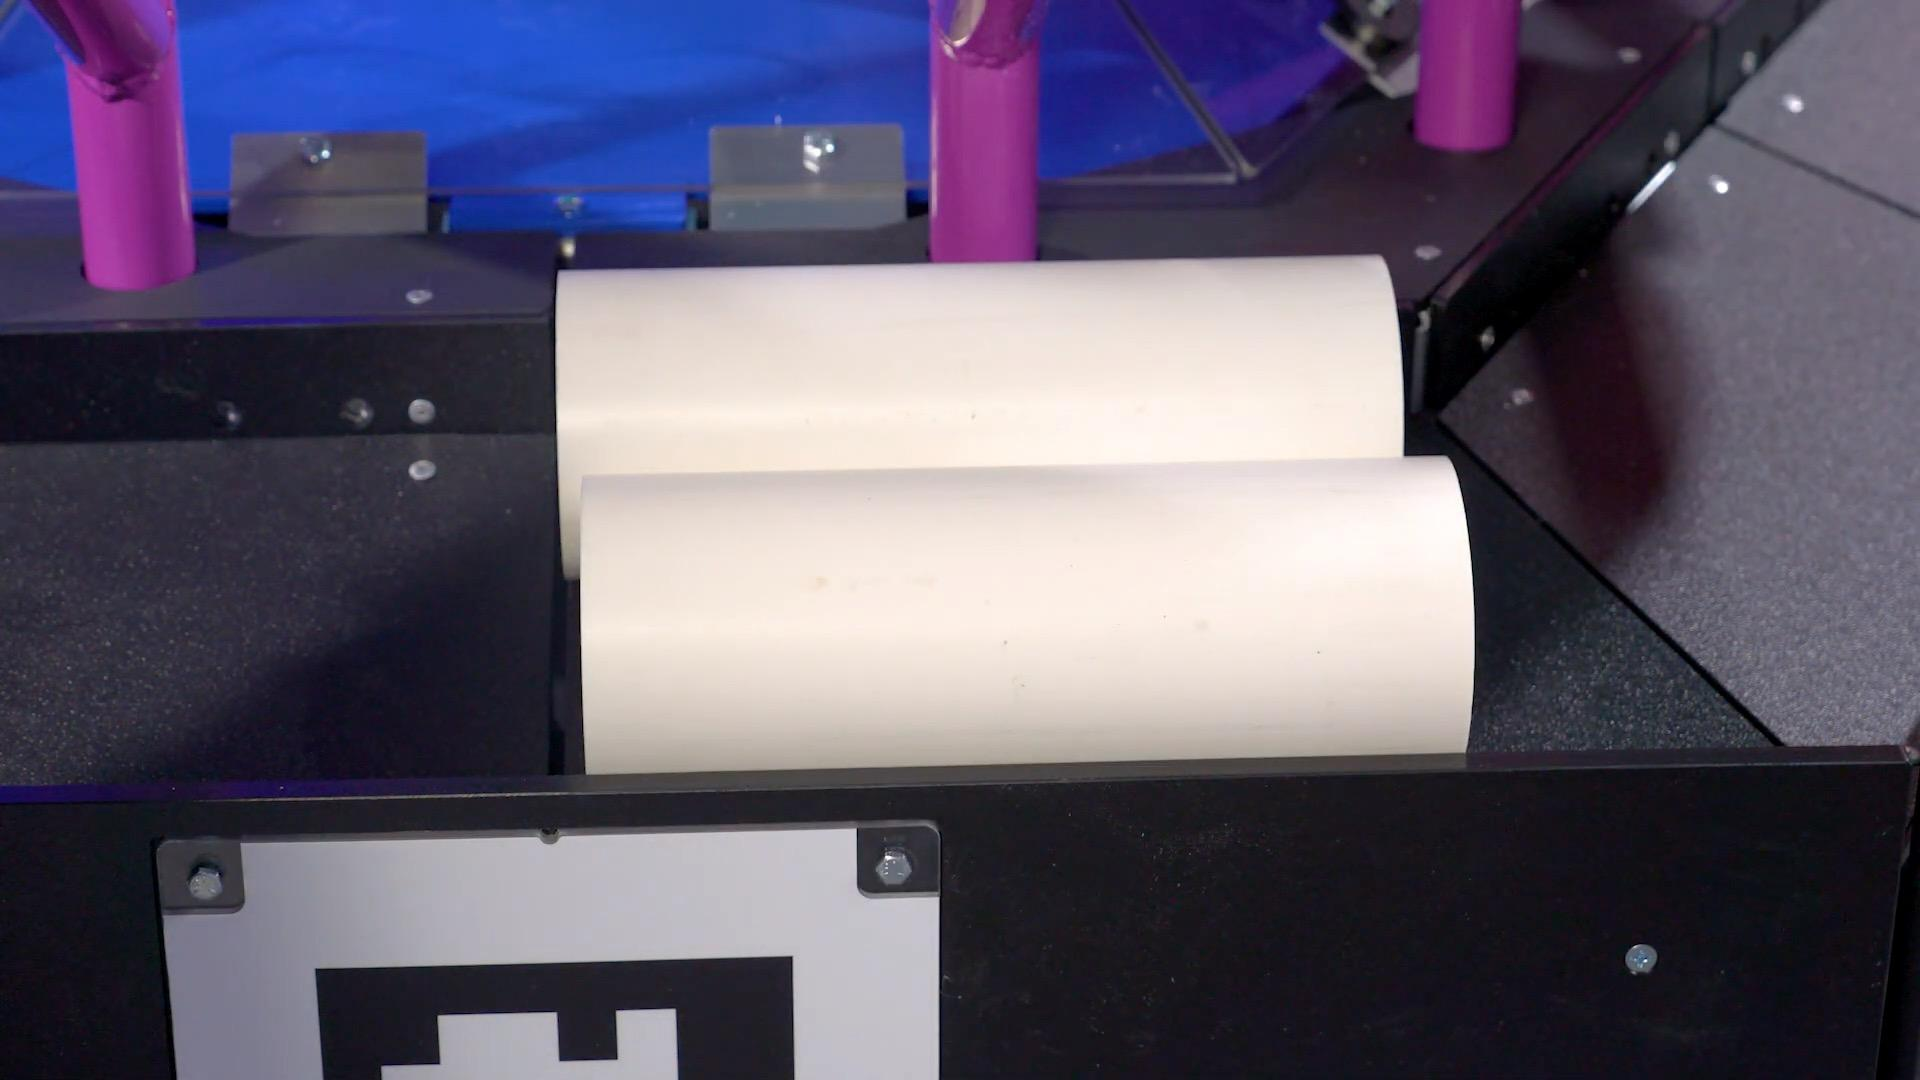CORAL: (576, 452, 1476, 775), (551, 251, 1408, 574)
